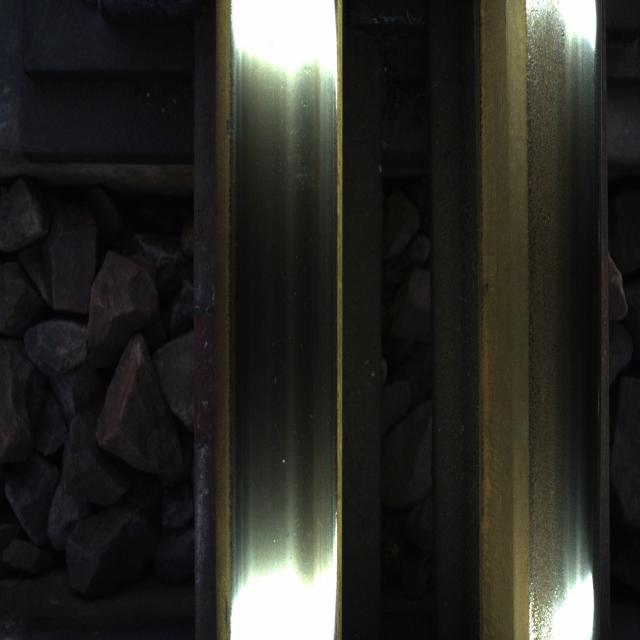break: (242, 61, 330, 550)
